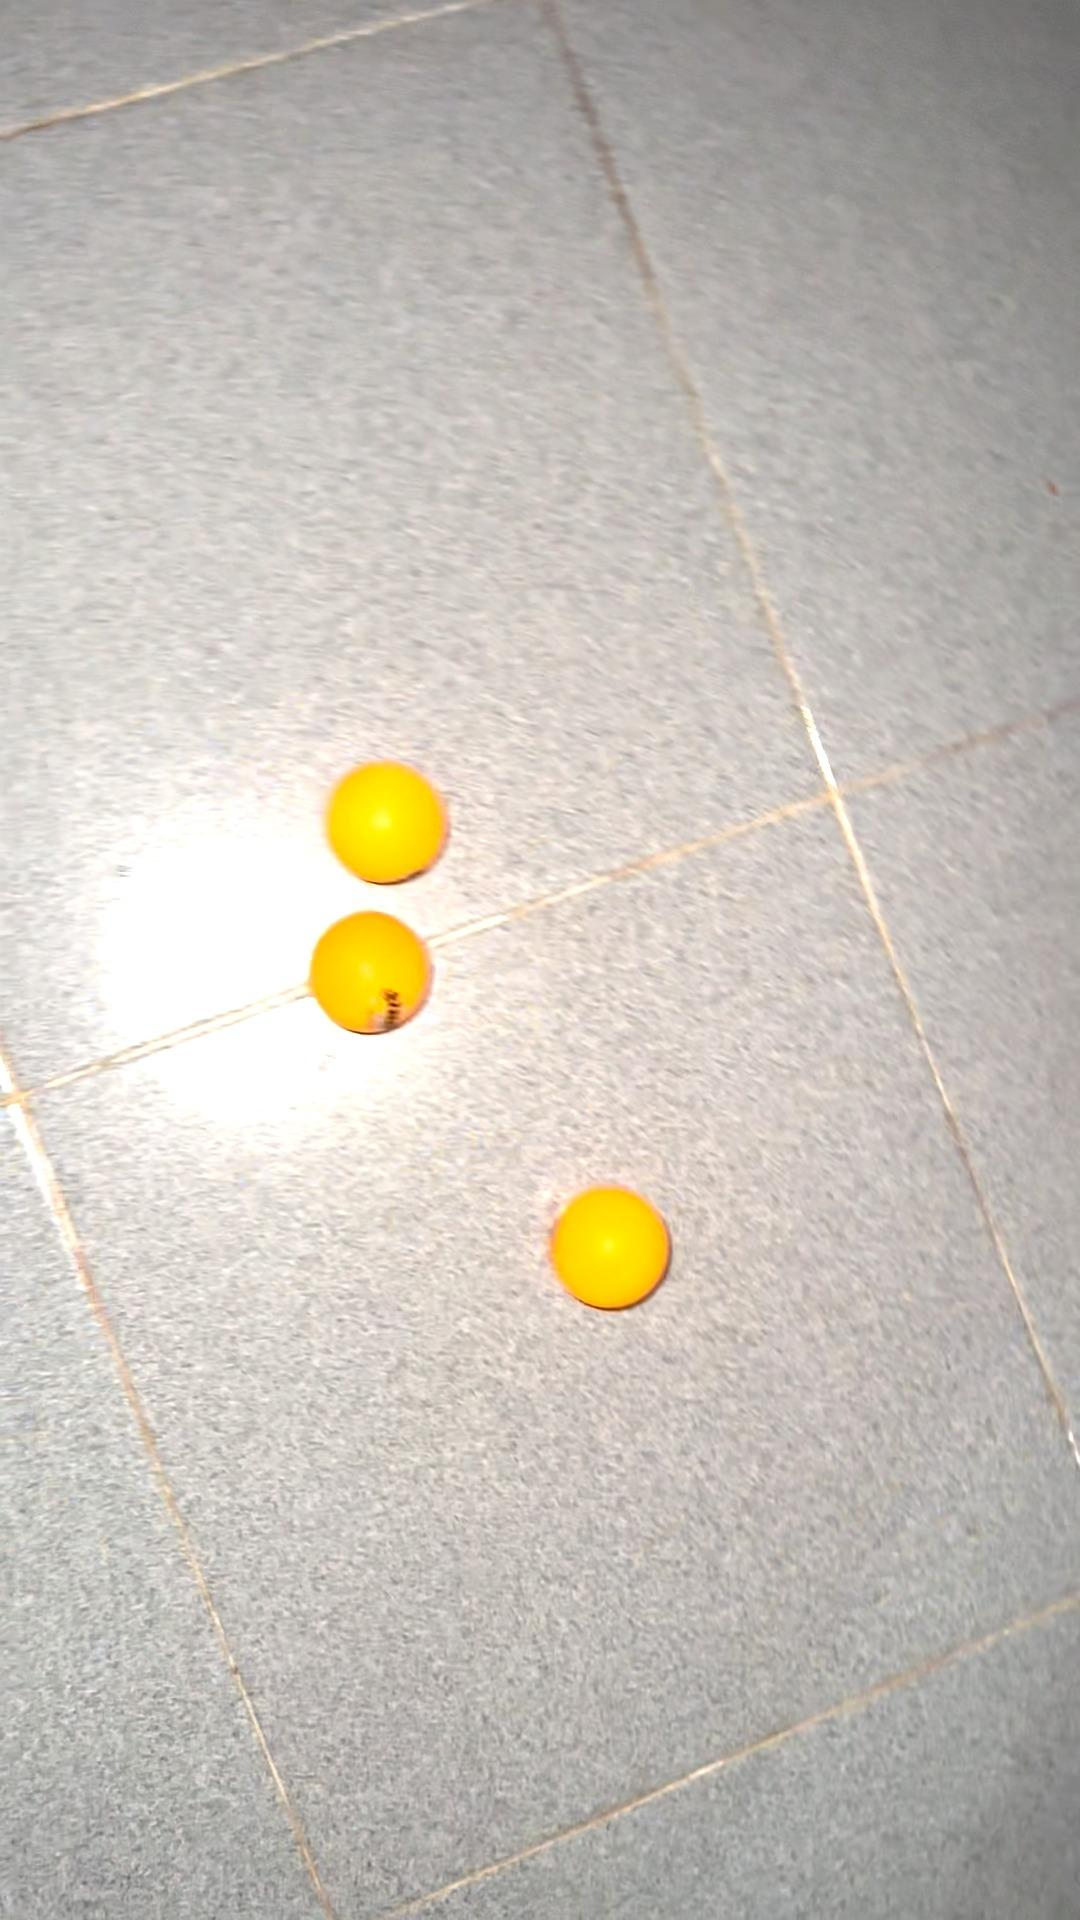oball: (547, 1178, 686, 1324), (314, 752, 452, 882), (310, 911, 433, 1038)
